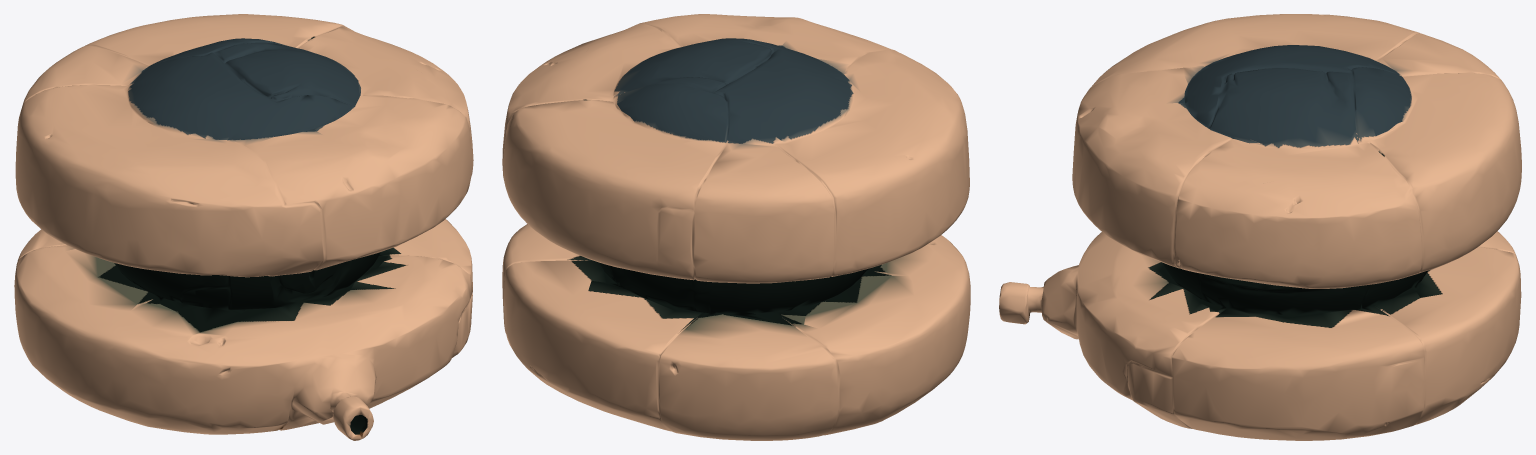
File: drone-lod.glb
3 views of the same model, side by side, from view 1: azimuth 30°, elevation 25°; view 2: azimuth 150°, elevation 25°; view 3: azimuth 270°, elevation 25° (orthographic). The views are drawn at different scales.
Parts seen in each view (by area): view 1: spool drone tripo lod; view 2: spool drone tripo lod; view 3: spool drone tripo lod.
Part boxes in pixels (x1,y1,x2,y2): spool drone tripo lod: (14,14,473,440); spool drone tripo lod: (502,14,970,440); spool drone tripo lod: (999,14,1521,440).
Size of the model in its own units: 1.4 by 1.11 by 1.56.
Materials: 1 (1 with a texture image).
